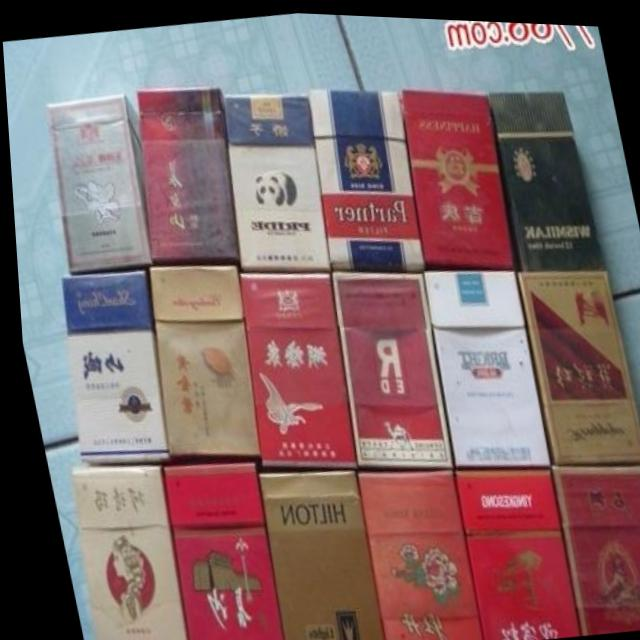box: (421, 265, 544, 464), (514, 265, 640, 459), (329, 269, 448, 464), (237, 271, 350, 466), (252, 466, 377, 640), (352, 466, 477, 640), (449, 466, 573, 639), (158, 461, 276, 640), (144, 265, 255, 454), (306, 86, 421, 268), (58, 269, 164, 465), (398, 86, 513, 265), (488, 86, 602, 266), (64, 464, 180, 640), (44, 95, 148, 272), (134, 85, 235, 265), (222, 93, 326, 267), (548, 461, 640, 631)
